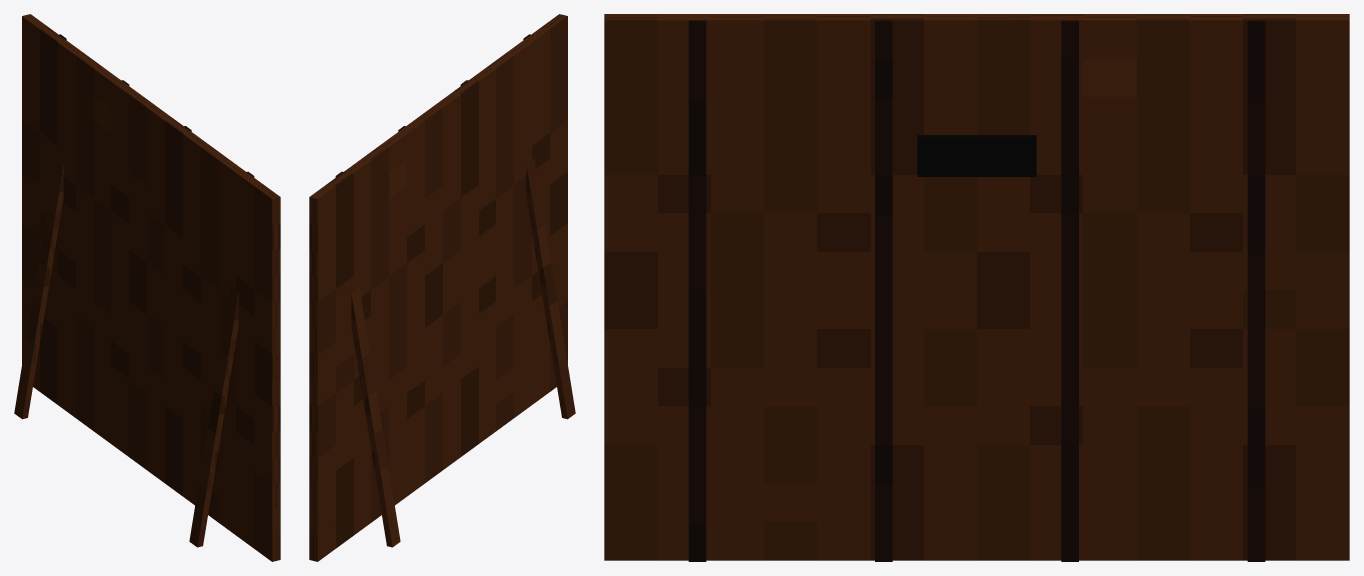
File: mantelete.glb
3 renders of one model, left to right at view 1: azimuth 30°, elevation 25°; view 2: azimuth 150°, elevation 25°; view 3: azimuth 270°, elevation 25°, orthographic. The views are drawn at different scales.
Visible parts, largest first — view 1: tablero, puntales; view 2: tablero, puntales; view 3: tablero, tablones, tronera.
Boxes of the visible parts, x1,y1,x2,y2 form: tablero: (22, 14, 280, 561); puntales: (14, 158, 238, 547); tablero: (309, 14, 567, 561); puntales: (351, 158, 575, 547); tablero: (604, 14, 1349, 560); tablones: (688, 20, 1265, 561); tronera: (917, 135, 1036, 176).
Size of the model in its own units: 0.3 by 2 by 2.5.
1 material, 1 textured.
